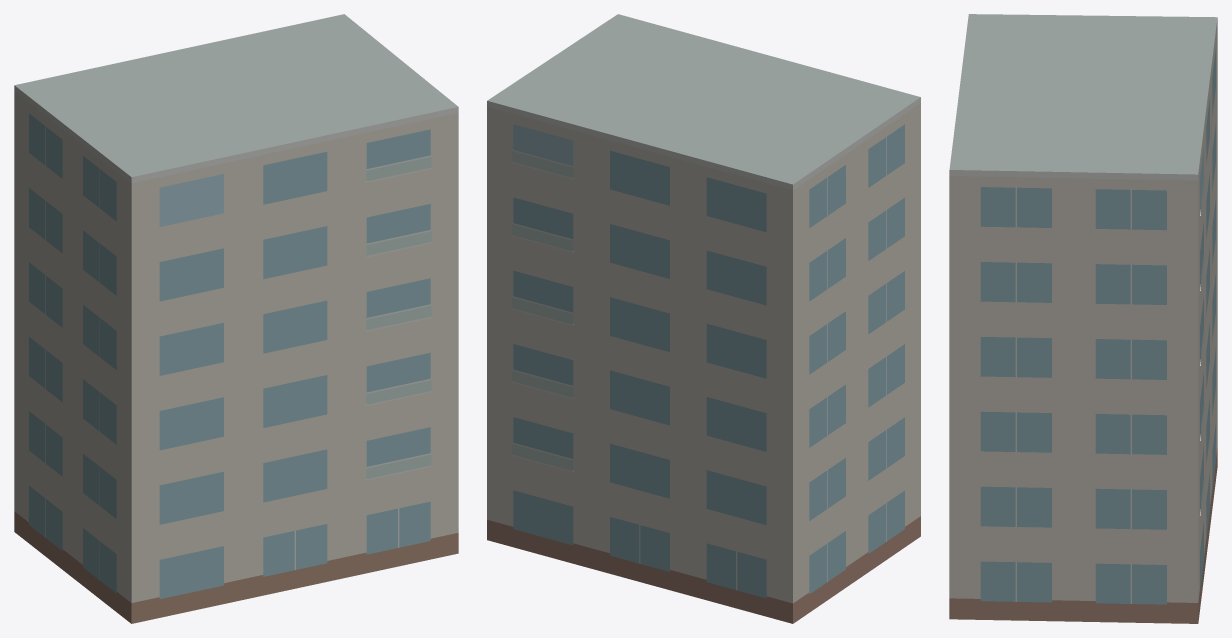
The model's file is survey-upis-32960278.glb.
The picture shows the model from 3 angles, left to right: view 1: azimuth 30°, elevation 25°; view 2: azimuth 150°, elevation 25°; view 3: azimuth 270°, elevation 25°; orthographic projection. The views are drawn at different scales.
Visible parts, largest first — view 1: survey-upis-32960278.tmp; view 2: survey-upis-32960278.tmp; view 3: survey-upis-32960278.tmp.
Part boxes in pixels (bbox=[...]): survey-upis-32960278.tmp: bbox=[14, 14, 458, 623]; survey-upis-32960278.tmp: bbox=[487, 14, 920, 623]; survey-upis-32960278.tmp: bbox=[949, 14, 1217, 623].
Size of the model in its own units: 14.03 by 18.3 by 9.9.
